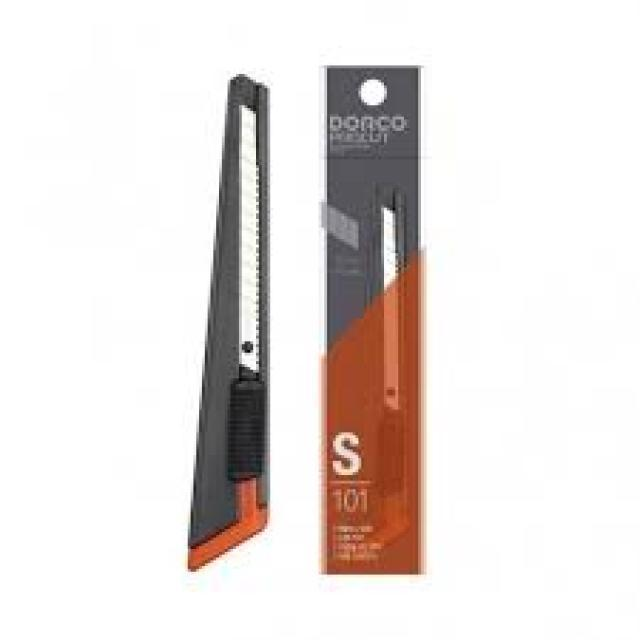cutter: (186, 54, 288, 576)
